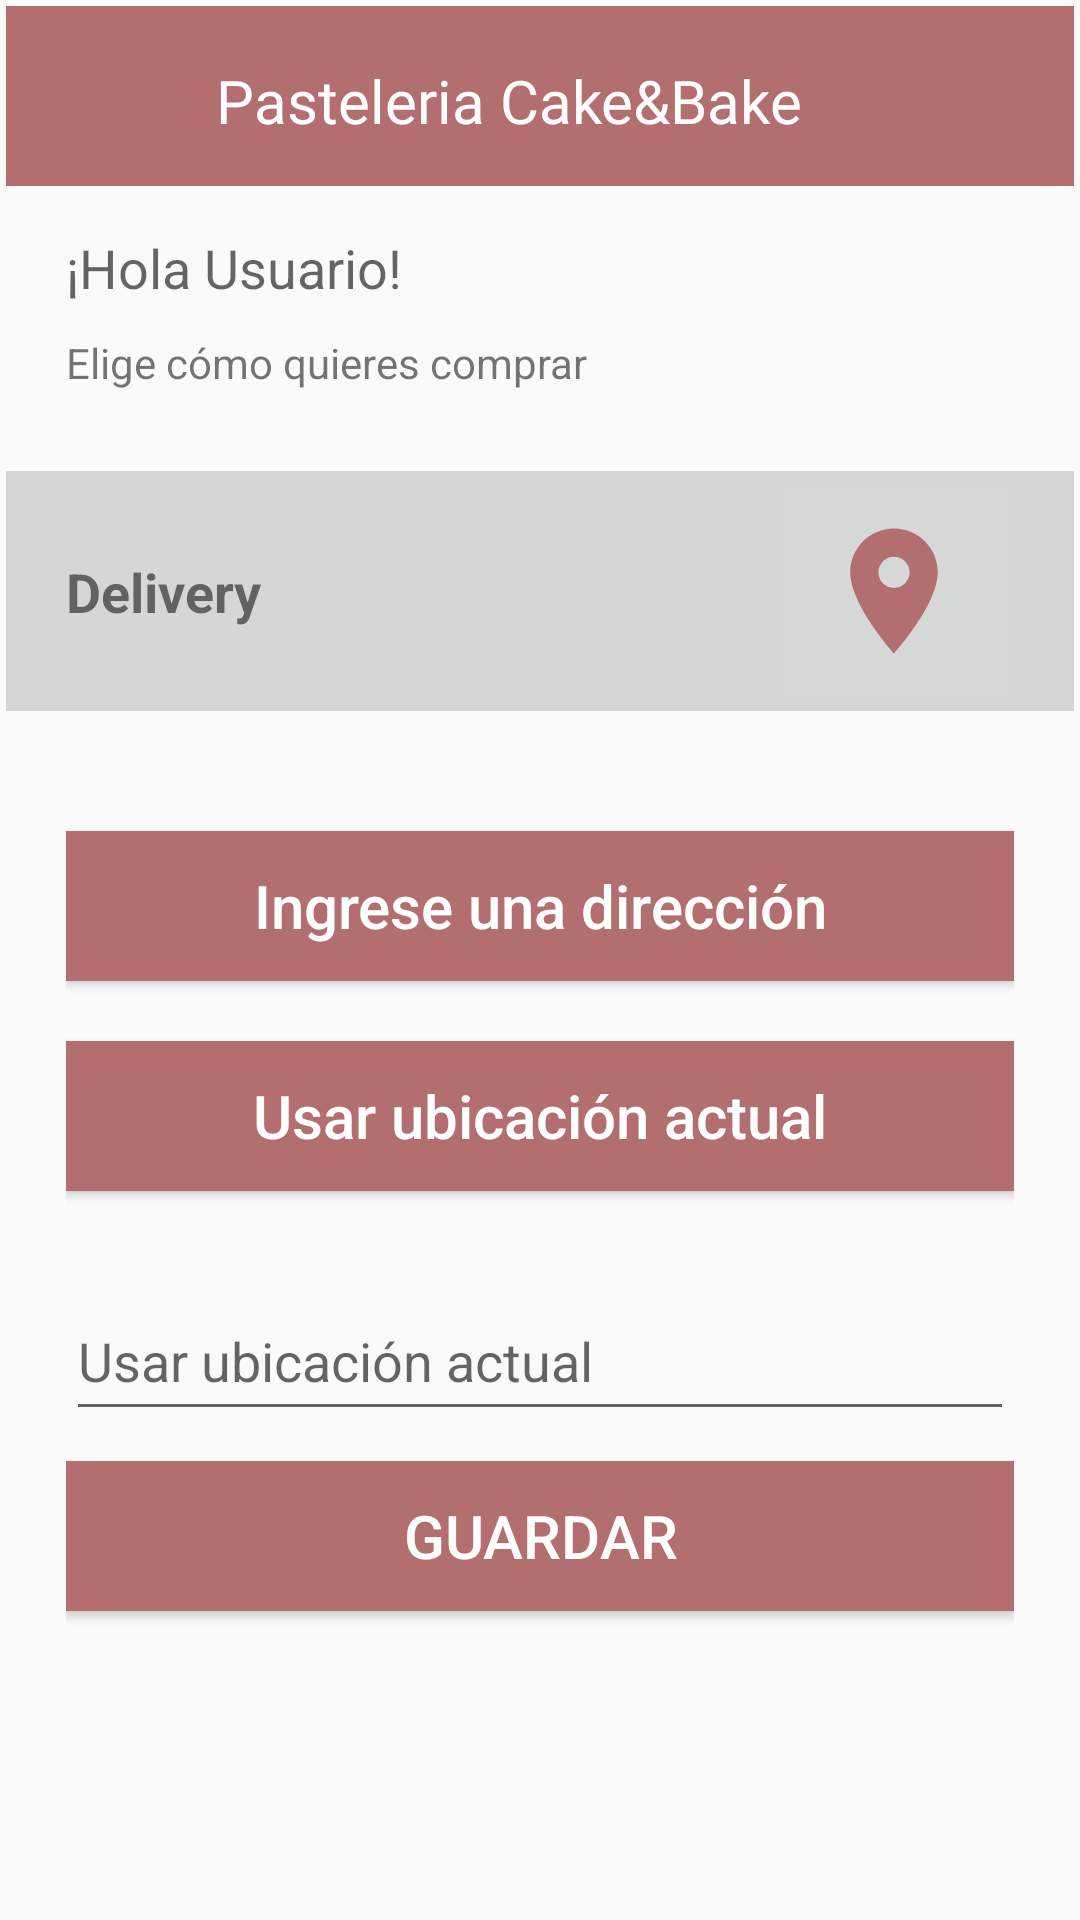

Icon bounding boxes for this 1080×1920 phone screenshot, format (x1, y1, x2, y2):
Icono de localización: (850, 528, 938, 653)
